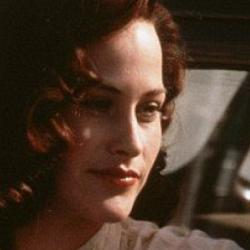face: (2, 2, 187, 227)
